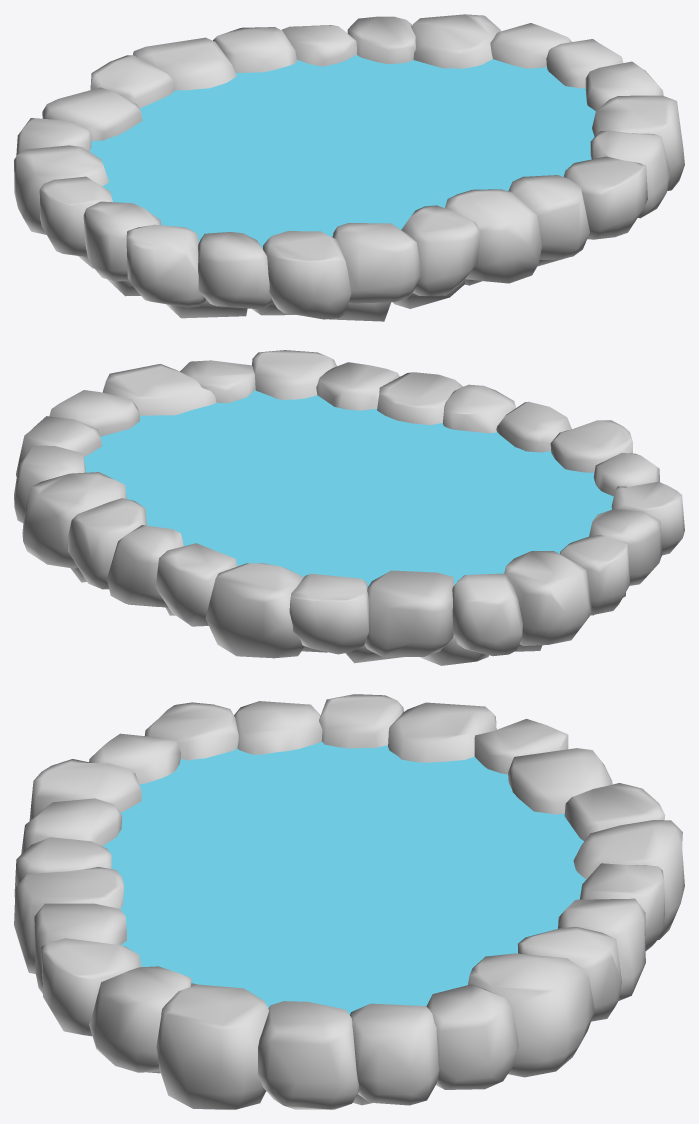
Rendered from RockSmall.fbx.
The picture shows the model from 3 angles, top to bottom: view 1: azimuth 30°, elevation 25°; view 2: azimuth 150°, elevation 25°; view 3: azimuth 270°, elevation 25°; orthographic projection. The views are drawn at different scales.
Visible parts, largest first — view 1: fishing_pond_rock_small; view 2: fishing_pond_rock_small; view 3: fishing_pond_rock_small.
Part boxes in pixels (<box>): fishing_pond_rock_small: <box>14,14,684,321</box>; fishing_pond_rock_small: <box>14,350,684,665</box>; fishing_pond_rock_small: <box>14,694,684,1109</box>.
Bounding box in the file's own units: 284 × 42.82 × 232.
